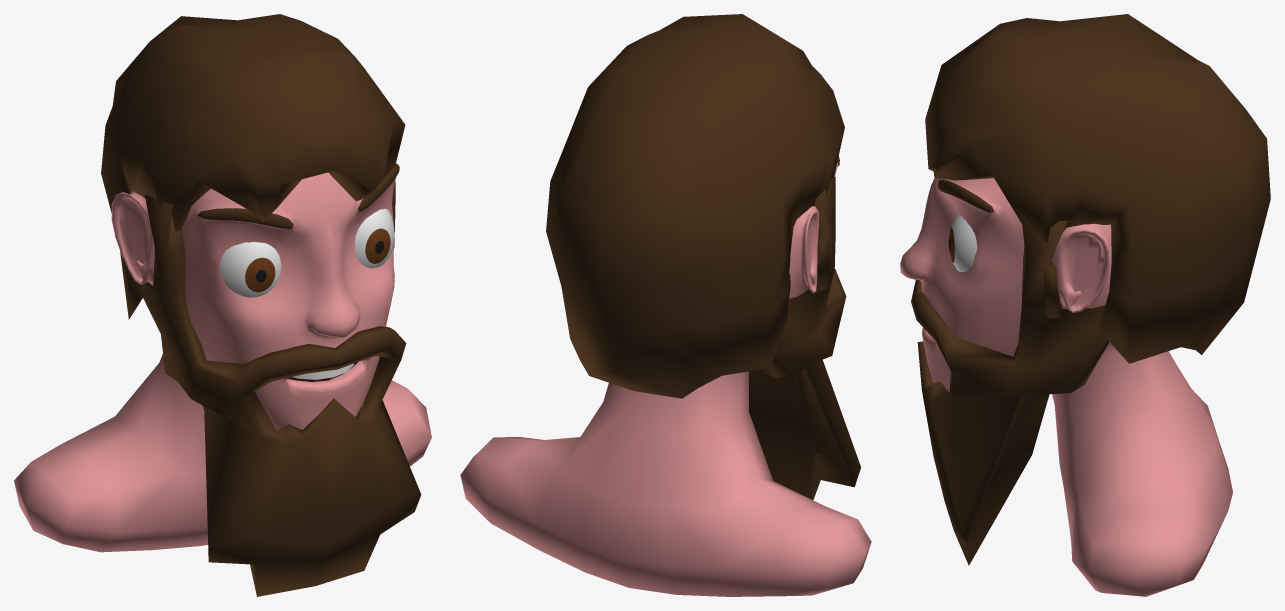
The model's file is Head.fbx.
3 views of the same model, side by side, from view 1: azimuth 30°, elevation 25°; view 2: azimuth 150°, elevation 25°; view 3: azimuth 270°, elevation 25° (orthographic).
Visible parts, largest first — view 1: Head, Hair, Beard, Eyes; view 2: Hair, Head, Beard; view 3: Hair, Head, Beard, Eyes.
Part boxes in pixels (x1=…): Head: x1=14, y1=163, x2=431, y2=552; Hair: x1=101, y1=14, x2=405, y2=319; Beard: x1=141, y1=181, x2=421, y2=596; Eyes: x1=220, y1=208, x2=394, y2=297; Hair: x1=546, y1=14, x2=844, y2=398; Head: x1=460, y1=156, x2=871, y2=596; Beard: x1=749, y1=177, x2=860, y2=499; Hair: x1=925, y1=14, x2=1270, y2=363; Head: x1=900, y1=177, x2=1232, y2=596; Beard: x1=911, y1=215, x2=1131, y2=565; Eyes: x1=948, y1=214, x2=977, y2=271.
Bounding box in the file's own units: 371 × 463 × 304.
